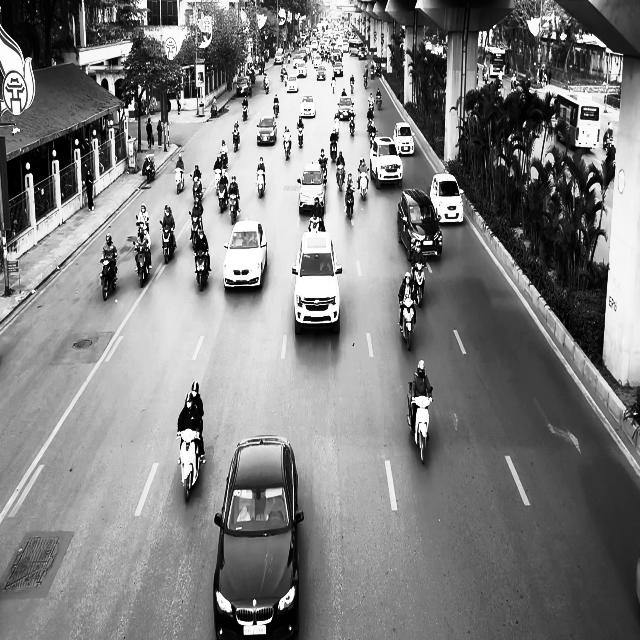bus: (554, 91, 600, 151), (485, 47, 506, 80)
car: (213, 435, 304, 639), (291, 230, 342, 335), (397, 188, 443, 262), (223, 218, 267, 290), (430, 172, 464, 225), (370, 136, 402, 189), (297, 161, 326, 215), (393, 121, 415, 156), (256, 116, 277, 145), (337, 95, 354, 120), (300, 94, 316, 117), (286, 74, 298, 92)
motorbike: (406, 382, 433, 464), (176, 428, 203, 502), (398, 294, 417, 350), (133, 242, 151, 288), (100, 256, 117, 300), (193, 247, 210, 291), (159, 220, 176, 264), (411, 259, 426, 307), (189, 210, 202, 249), (227, 193, 240, 225), (344, 187, 355, 219), (143, 154, 155, 183), (357, 170, 368, 200), (217, 182, 228, 212), (256, 169, 266, 198), (175, 166, 184, 194), (336, 163, 345, 191), (330, 135, 338, 161), (320, 159, 328, 184), (296, 124, 304, 148), (283, 136, 291, 159), (232, 129, 240, 152), (348, 112, 355, 136), (242, 101, 248, 120), (331, 75, 336, 93), (264, 78, 269, 94)
